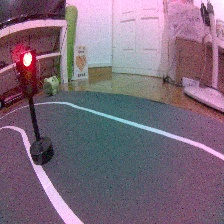red: (15, 46, 56, 167)
